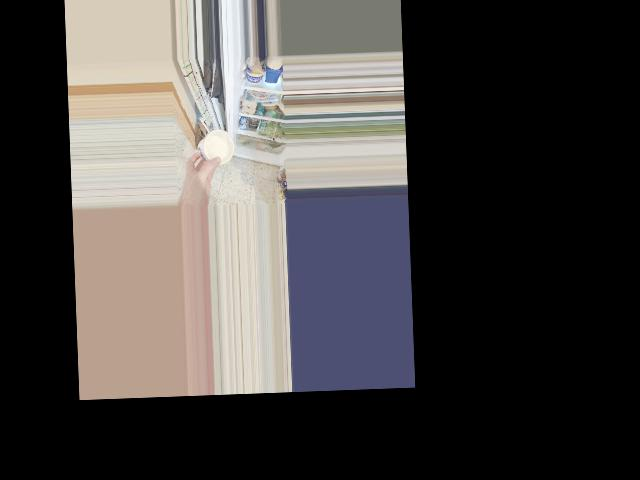cotage: (193, 128, 231, 163)
